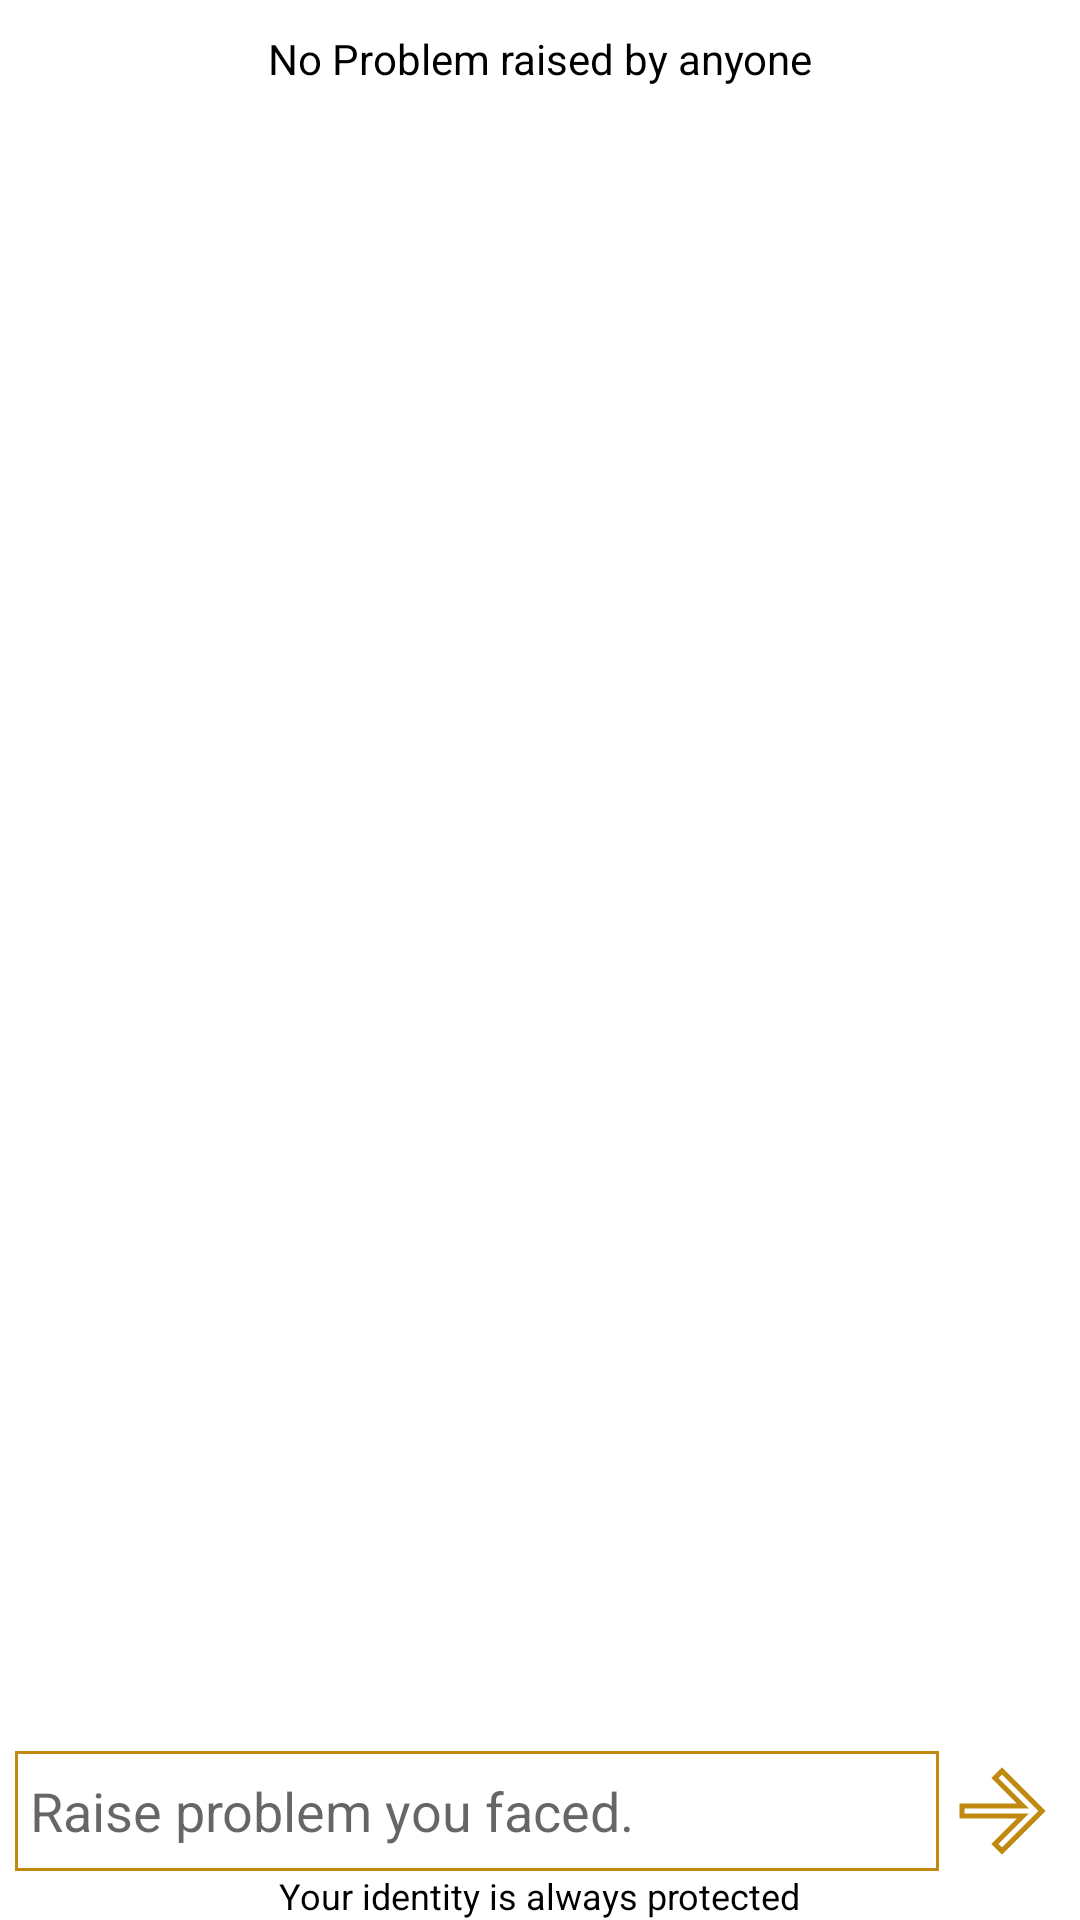

Icon bounding boxes for this 1080*1920 phone screenshot, format (x1, y1, x2, y2):
right arrow: (959, 1767, 1046, 1855)
